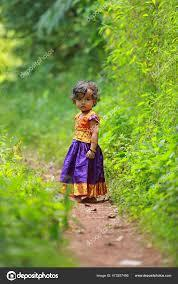Human: (59, 80, 117, 210)
